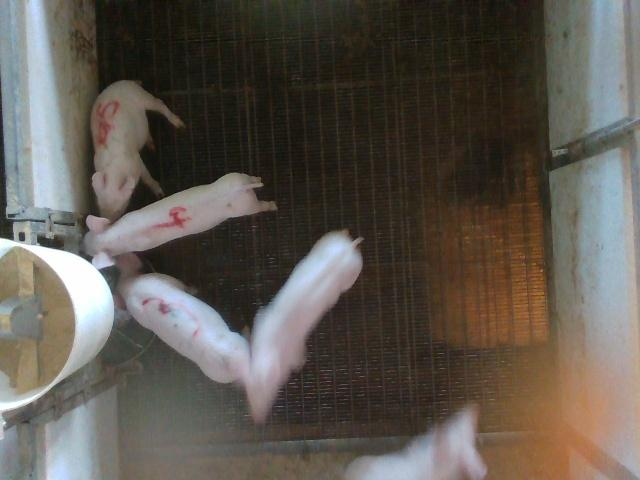pig-3: (116, 252, 250, 382)
pig-4: (85, 172, 276, 268)
pig-5: (91, 80, 184, 221)
